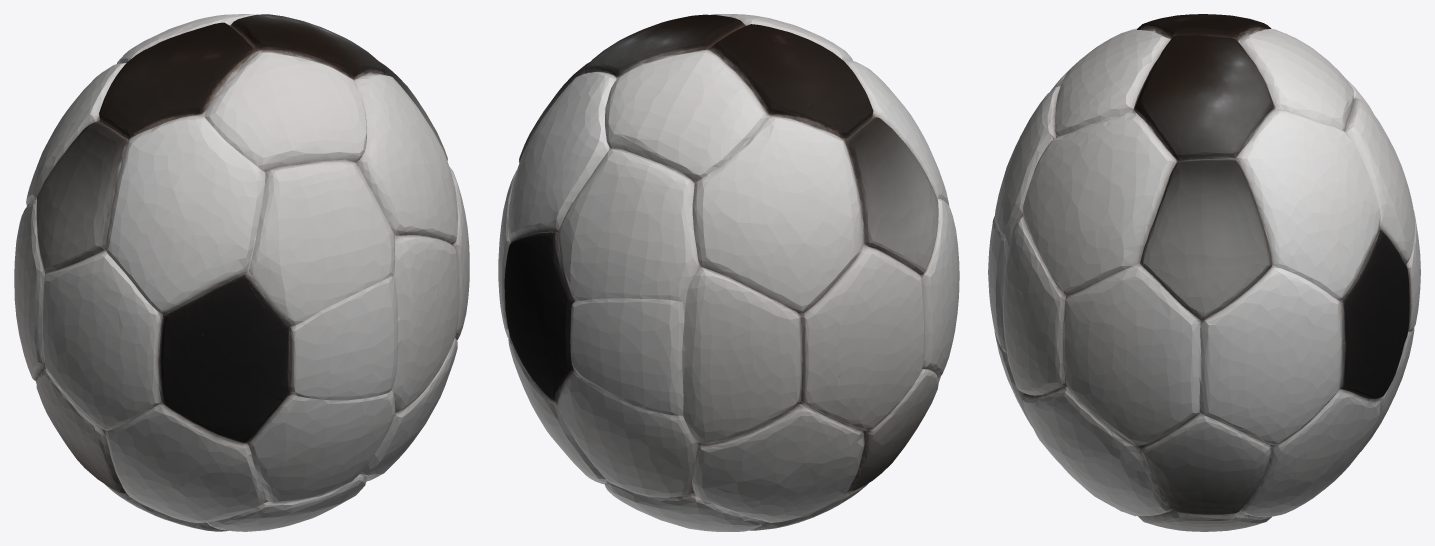
The model's file is soccer_ball.glb.
3 renders of one model, left to right at view 1: azimuth 30°, elevation 25°; view 2: azimuth 150°, elevation 25°; view 3: azimuth 270°, elevation 25°, orthographic.
Parts seen in each view (by area): view 1: world; view 2: world; view 3: world.
Boxes of the visible parts, x1=… form: world: x1=14, y1=14, x2=469, y2=531; world: x1=498, y1=14, x2=959, y2=531; world: x1=988, y1=14, x2=1420, y2=531.
Bounding box in the file's own units: 0.8681 × 0.9984 × 0.8133.
Materials: 1 (1 with a texture image).
